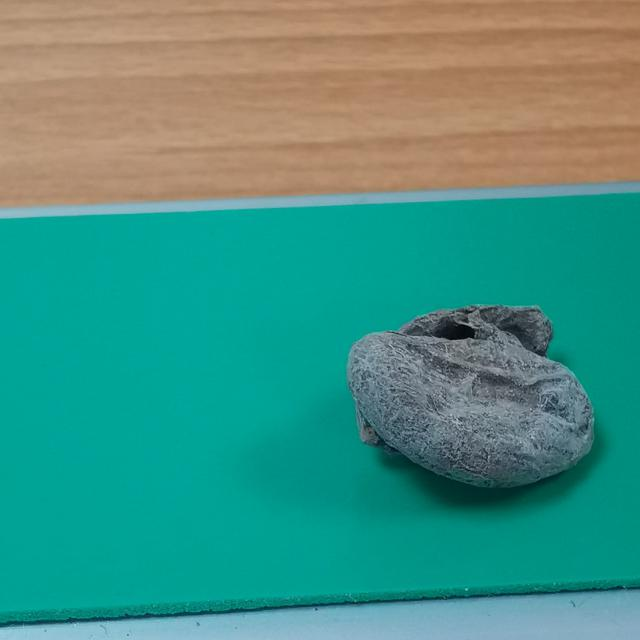Agglomerated_cocoabeans: (258, 268, 640, 534)
